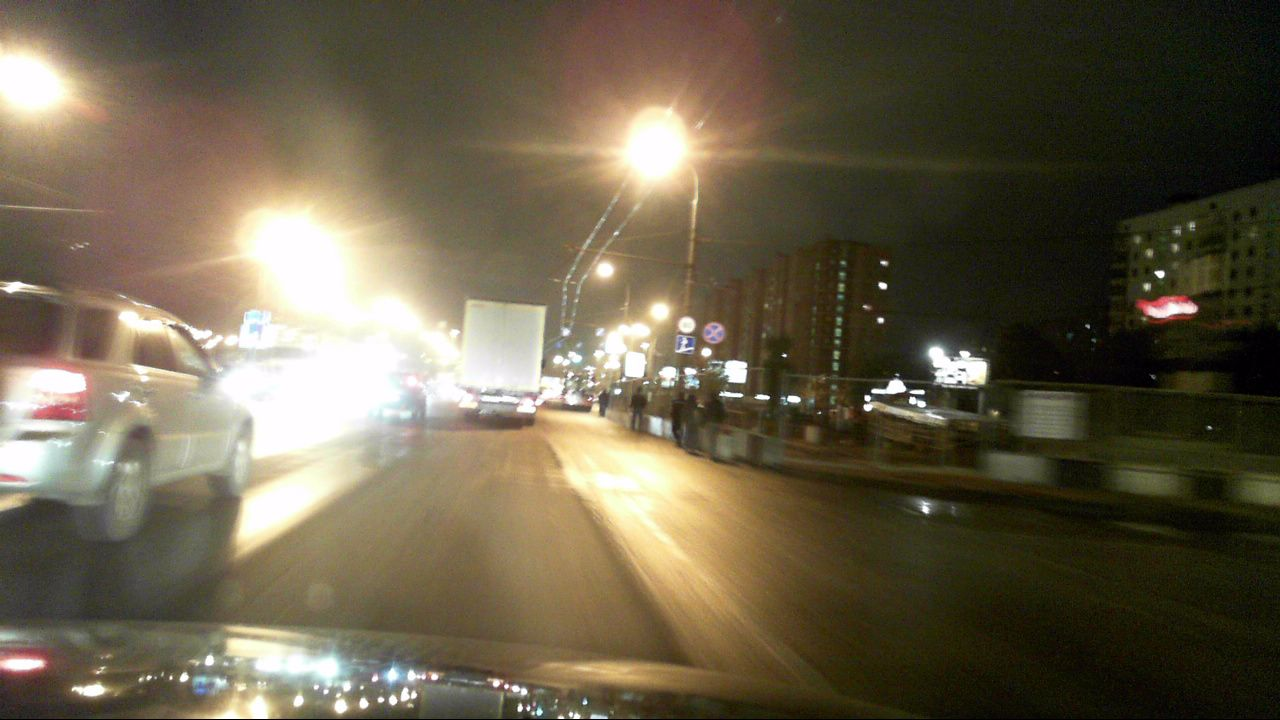No Parking: (703, 321, 725, 344)
